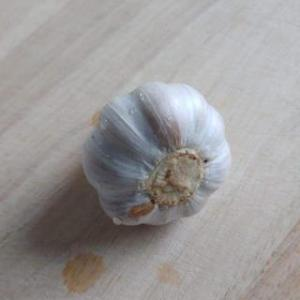garlic: (80, 82, 234, 228)
